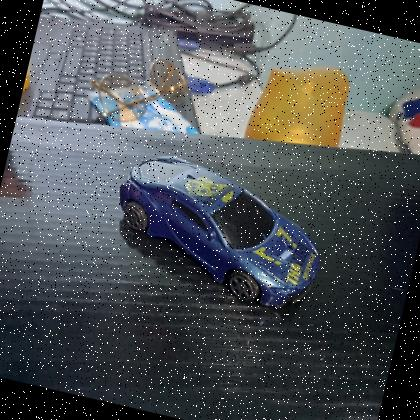Car: (96, 140, 339, 320)
